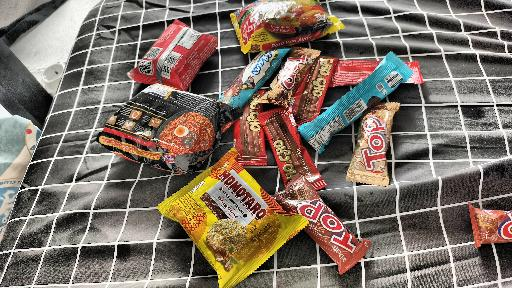indomie: (207, 0, 360, 41)
mie sedap: (107, 73, 223, 189)
momotaro: (156, 164, 317, 275), (156, 19, 212, 93)
top: (272, 175, 379, 271), (350, 96, 408, 189)
